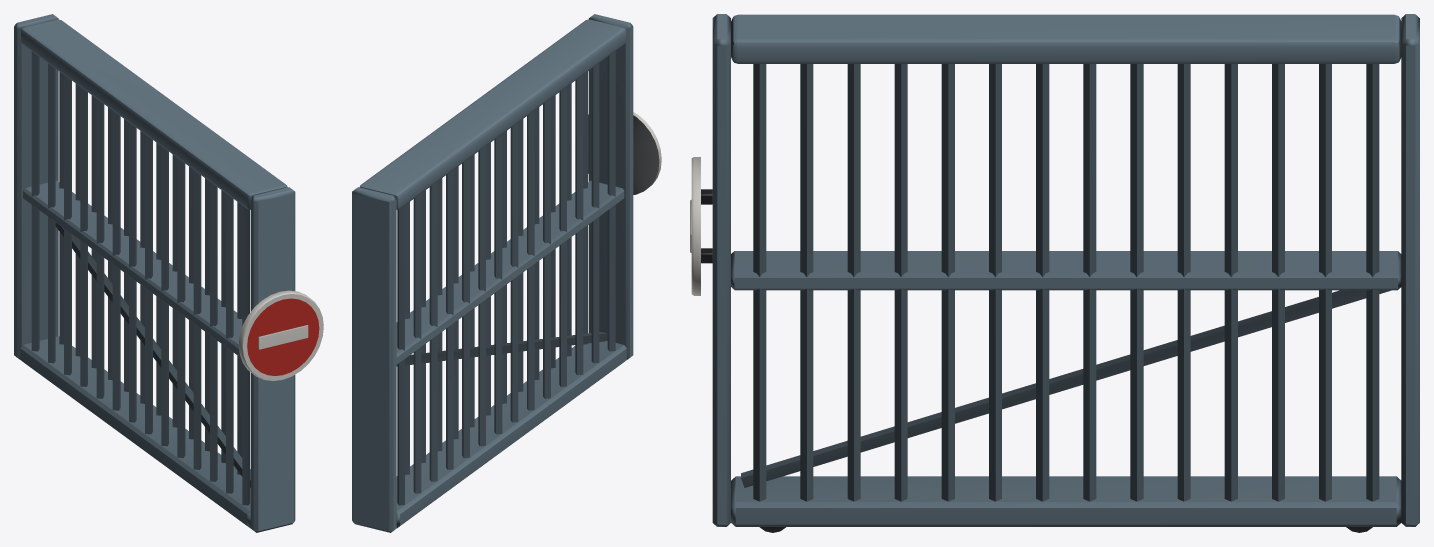
File: SlidingGate.fbx
The picture shows the model from 3 angles, left to right: view 1: azimuth 30°, elevation 25°; view 2: azimuth 150°, elevation 25°; view 3: azimuth 270°, elevation 25°; orthographic projection. The views are drawn at different scales.
Parts seen in each view (by area): view 1: SlidingGate; view 2: SlidingGate; view 3: SlidingGate.
Boxes of the visible parts, x1=… form: SlidingGate: x1=14, y1=14, x2=323, y2=532; SlidingGate: x1=352, y1=14, x2=661, y2=532; SlidingGate: x1=690, y1=14, x2=1419, y2=532.
Size of the model in its own units: 0.6 by 2.4 by 3.15.
